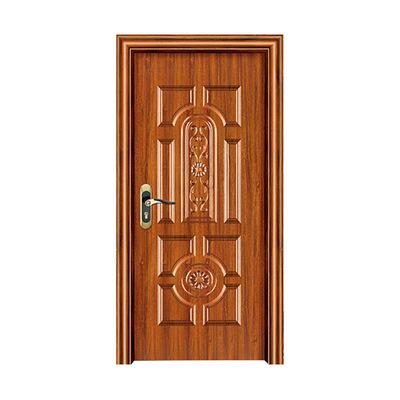door: (135, 51, 266, 358)
